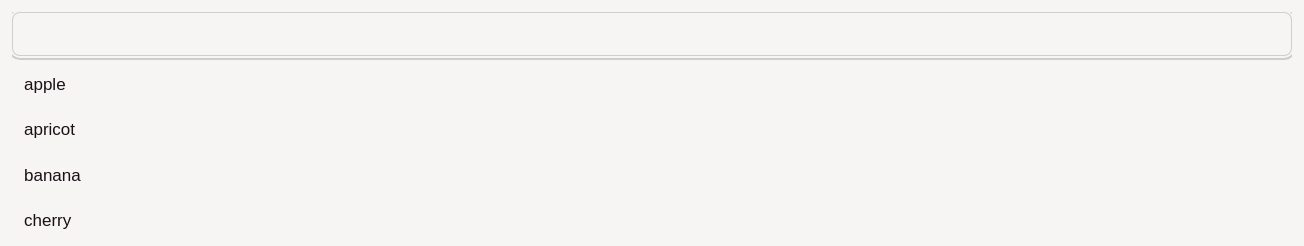
Test: Combobox › filters options as the user types
Type "ap" into the dropdown at x=652, y=34, box [12,12,1292,56]
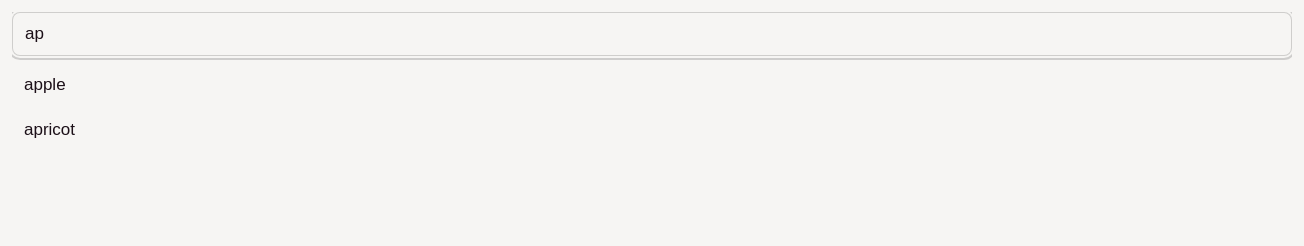
Result: the options read "apple", "apricot", in this order at [24,74,66,94]; [24,120,75,139]
